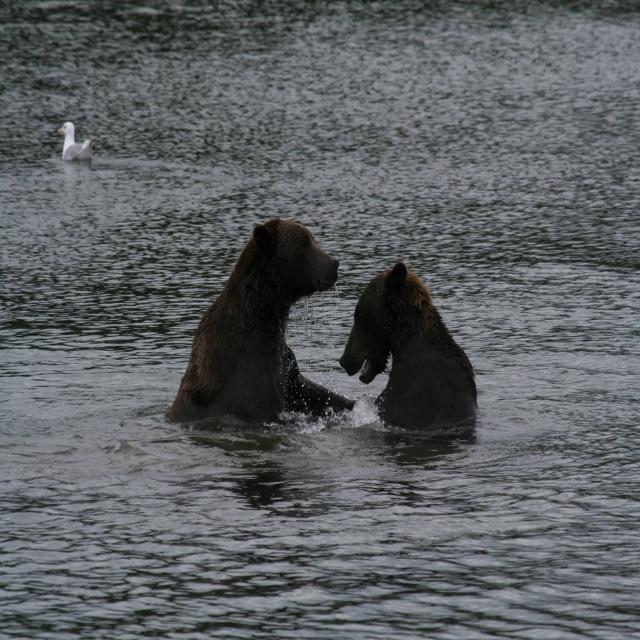bear face: (179, 217, 341, 422), (338, 261, 474, 427)
